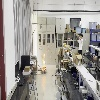fire: (42, 53, 46, 70)
